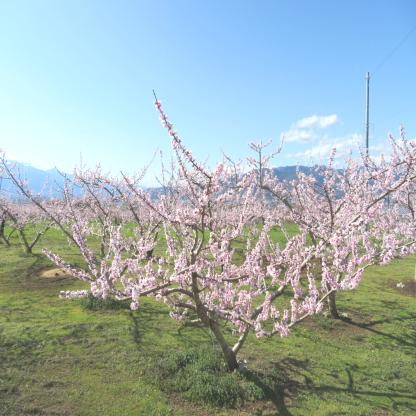Momo: (42, 86, 334, 354), (266, 126, 416, 315), (0, 194, 61, 238), (58, 199, 144, 228)
